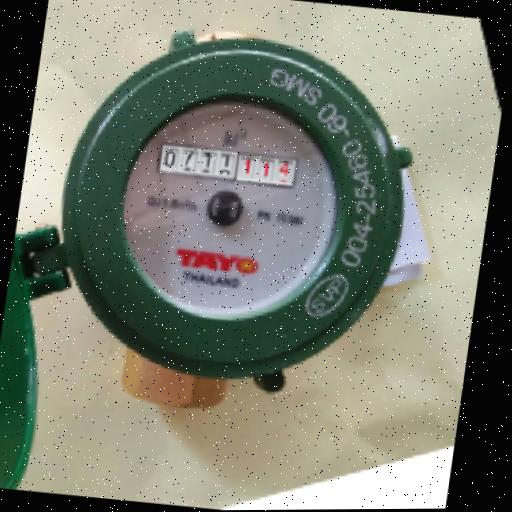0: (161, 148, 178, 170)
1: (218, 153, 235, 175), (257, 158, 274, 180), (198, 152, 215, 173), (238, 157, 255, 178)
4: (275, 161, 291, 183)
7: (180, 150, 197, 171)
border_water_meter_number: (155, 141, 299, 189)
